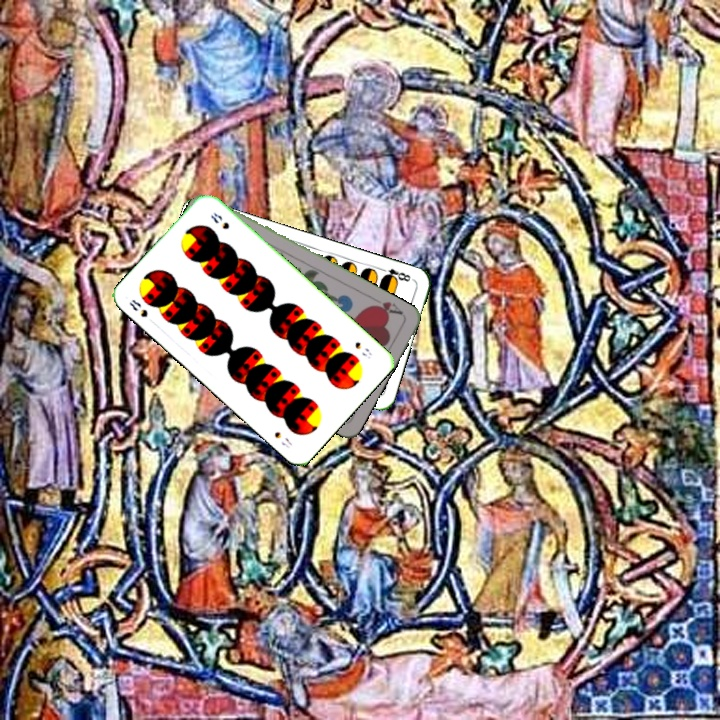E8: (376, 264, 413, 284)
HA: (366, 297, 406, 318)
S8: (125, 295, 150, 320), (351, 338, 375, 361)
